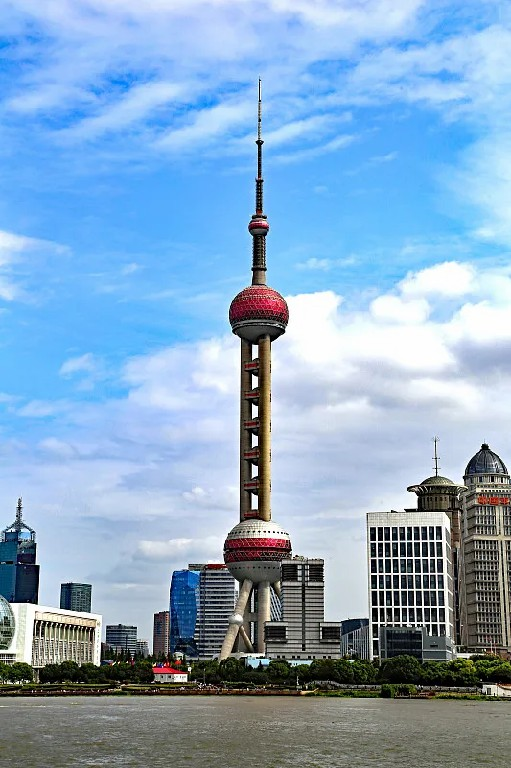Oriental: (221, 79, 291, 659)
